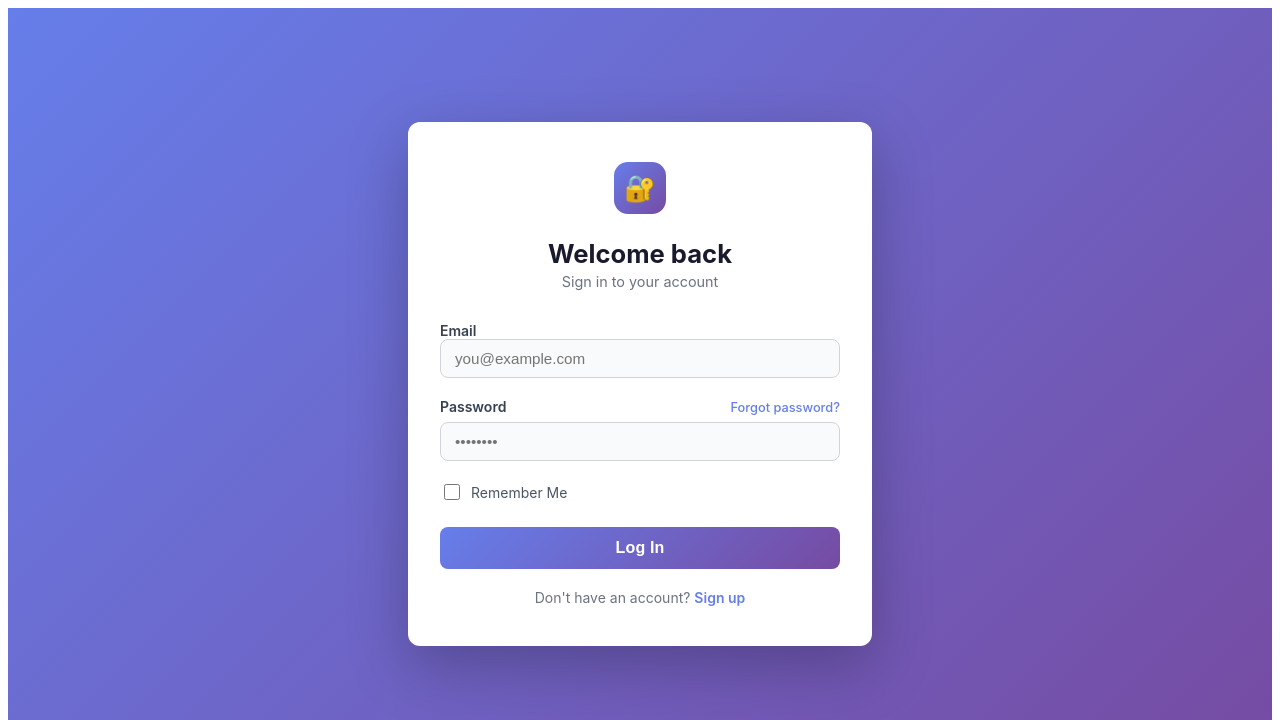
Test: LoginPage › B — Validation › B3: shows "Password is required" when submitting with empty password
Step 1. Type "user@example.com" into the field labelled "Email" → (640, 358), box [440, 338, 840, 378]
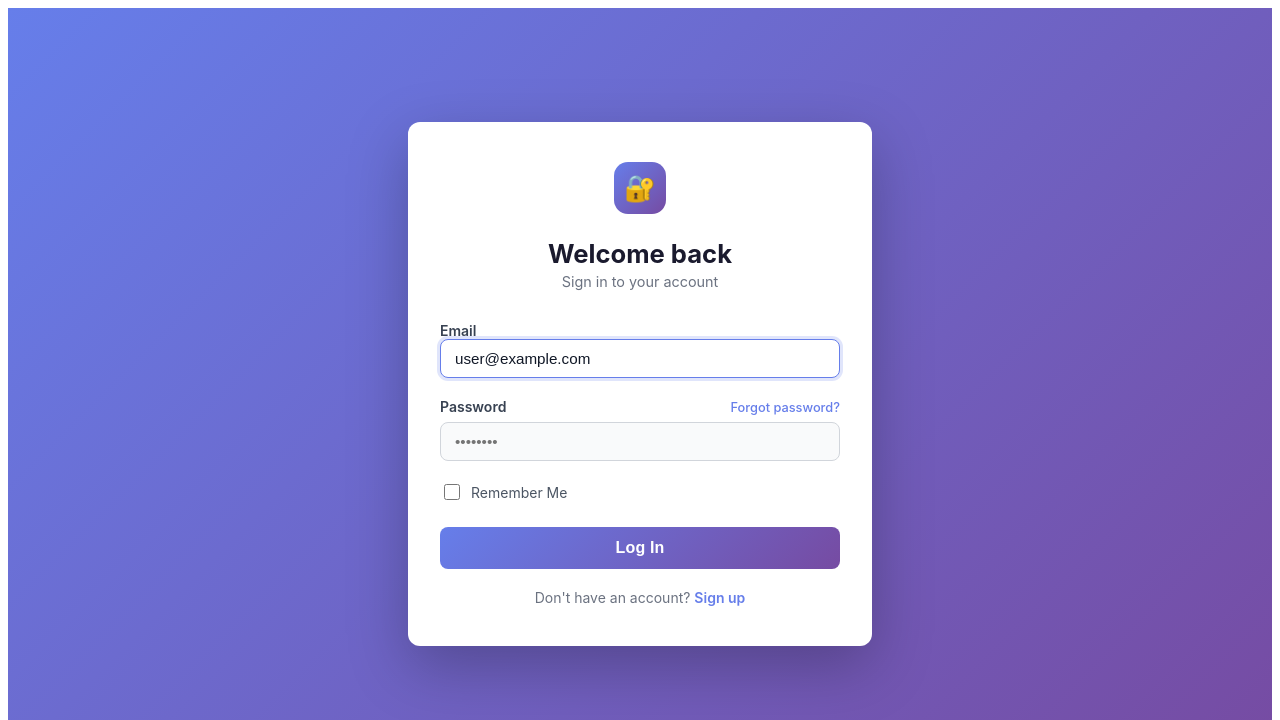
Step 2. Click the button "Log In" → click(640, 548), box [440, 528, 840, 570]
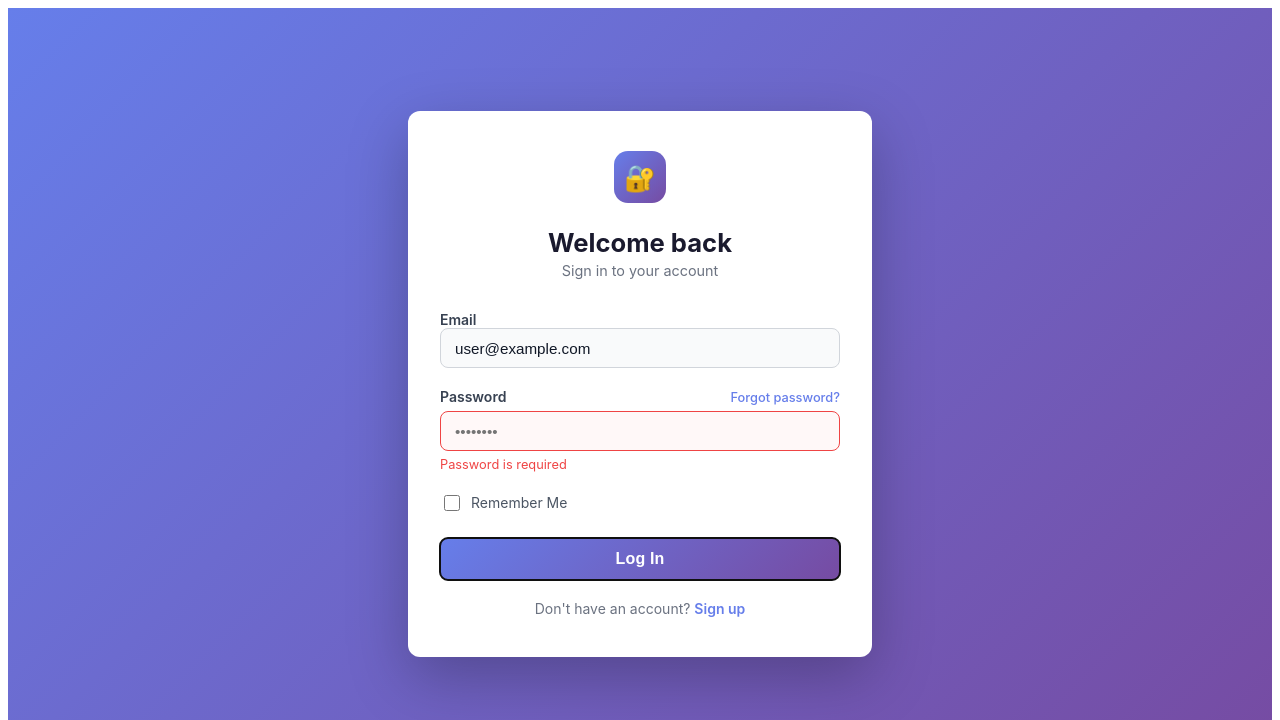
Check: the text "Password is required" is shown, box [440, 457, 567, 472]
